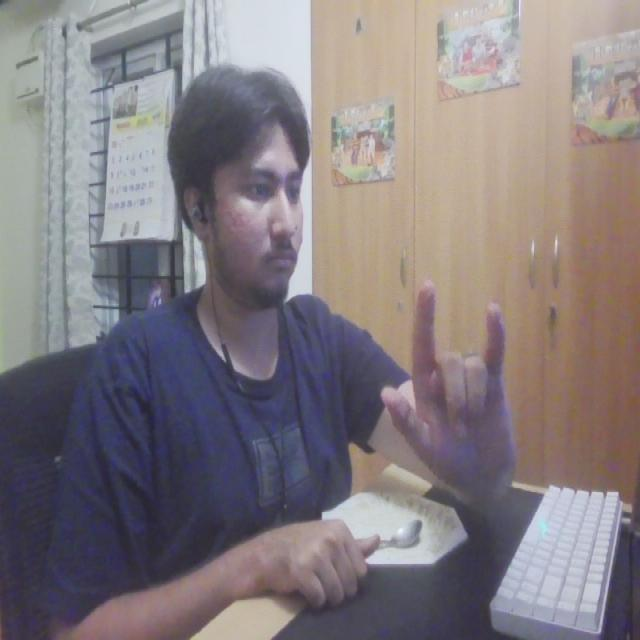iloveyou: (381, 278, 528, 498)
